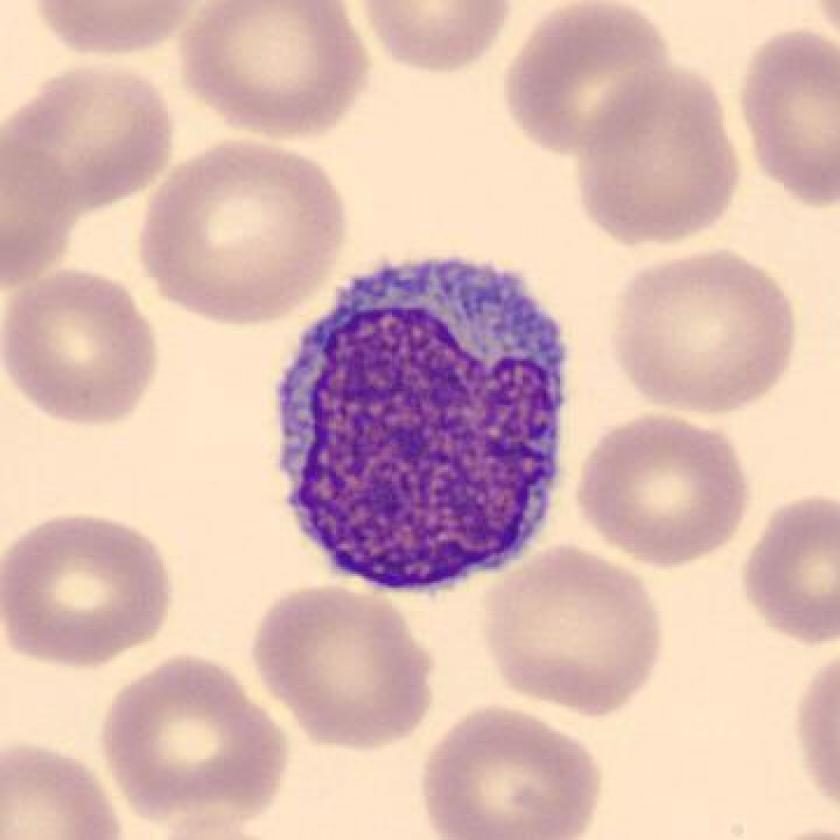monocyte: (246, 242, 594, 607)
